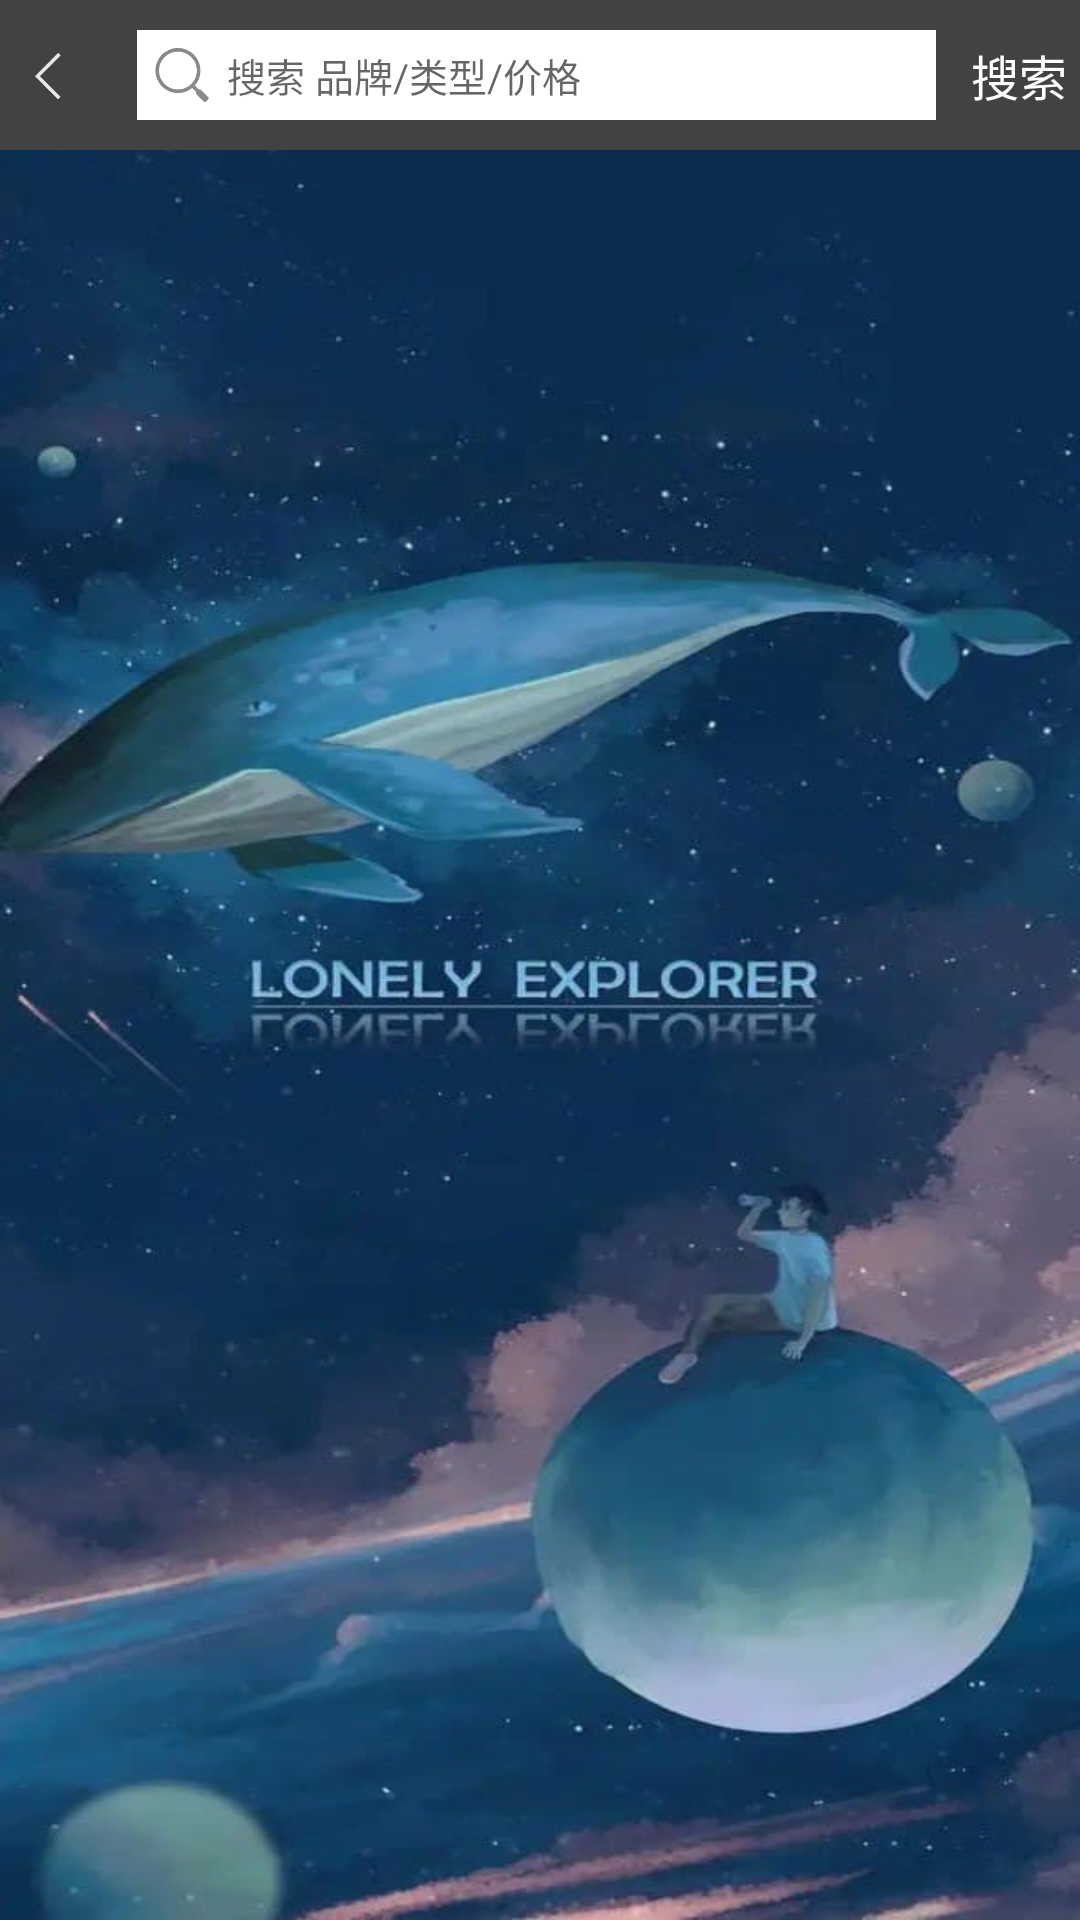

Named icons in this screenshot (1080px×1920px) and their bounding boxes, (x1, y1, x2, y2):
head back: (35, 53, 61, 99)
